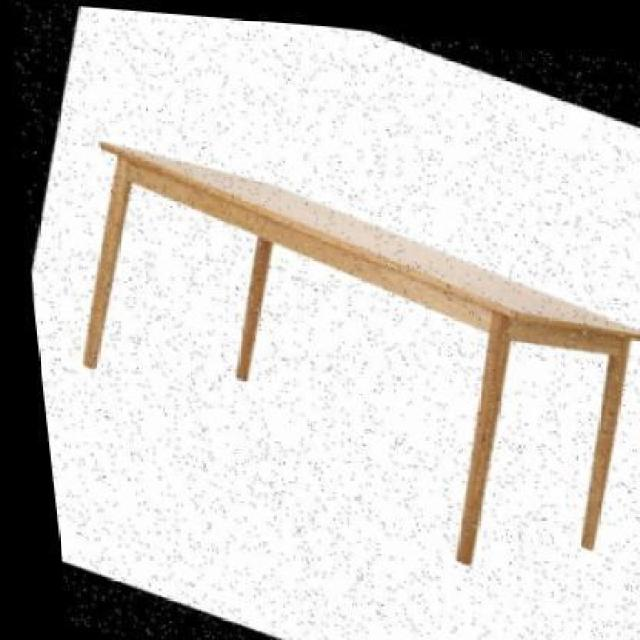tables: (27, 0, 638, 638)
